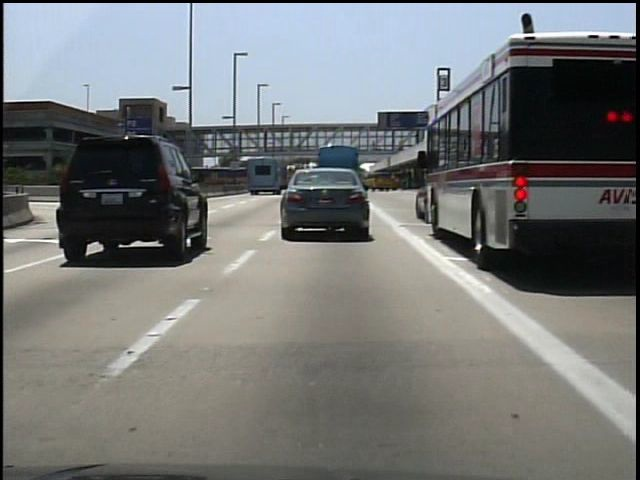person: (396, 135, 409, 157), (368, 137, 381, 157)
